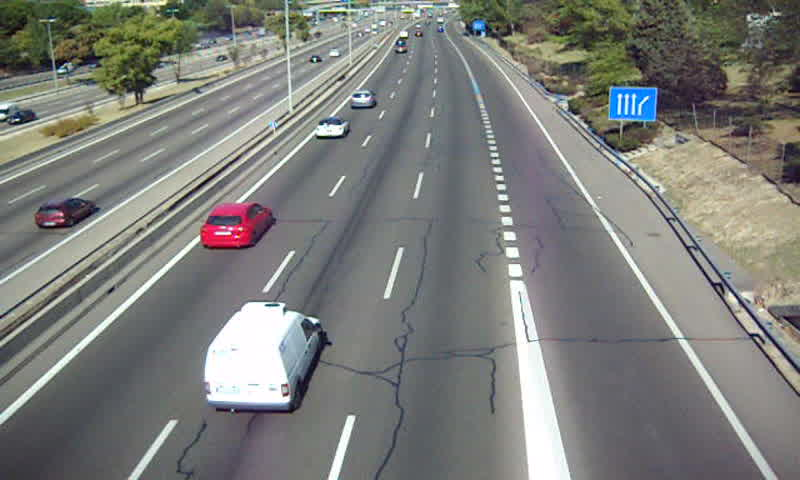car: (201, 204, 271, 246), (315, 116, 350, 139), (350, 89, 376, 110)
van: (206, 302, 321, 409)
